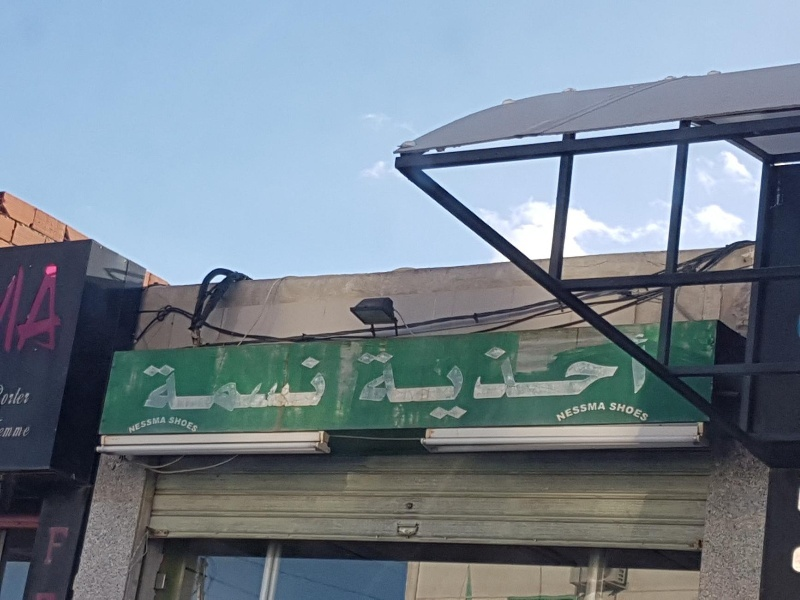text: (321, 333, 336, 429), (337, 333, 352, 429), (353, 333, 368, 429), (369, 333, 384, 429), (385, 333, 400, 429), (401, 333, 416, 429), (417, 333, 432, 429), (433, 333, 448, 429), (449, 333, 464, 429), (465, 333, 480, 429), (481, 333, 496, 429), (497, 333, 512, 429), (513, 333, 528, 429), (529, 333, 544, 429), (545, 333, 560, 429), (561, 333, 576, 429), (577, 333, 592, 429), (593, 333, 608, 429), (609, 333, 624, 429), (625, 333, 640, 429), (17, 263, 32, 357), (33, 263, 48, 357), (49, 263, 62, 357), (4, 263, 16, 357), (145, 355, 160, 414), (161, 355, 176, 414), (177, 355, 192, 414), (193, 355, 208, 414), (209, 355, 224, 414), (225, 355, 240, 414), (241, 355, 256, 414), (257, 355, 272, 414), (273, 355, 288, 414), (289, 355, 304, 414), (305, 355, 320, 414), (641, 333, 649, 429), (49, 526, 64, 570), (321, 355, 331, 414), (561, 396, 576, 422), (577, 396, 592, 422), (1, 384, 16, 409), (17, 384, 32, 409), (593, 396, 607, 422), (625, 400, 640, 422), (129, 414, 144, 434), (145, 414, 160, 434), (611, 400, 624, 422), (177, 414, 192, 433), (1, 423, 16, 441), (17, 423, 32, 441), (65, 526, 71, 570), (641, 400, 651, 422), (193, 414, 201, 433), (555, 396, 560, 422), (161, 414, 166, 434), (171, 414, 176, 433), (33, 384, 34, 409), (33, 423, 34, 441)
